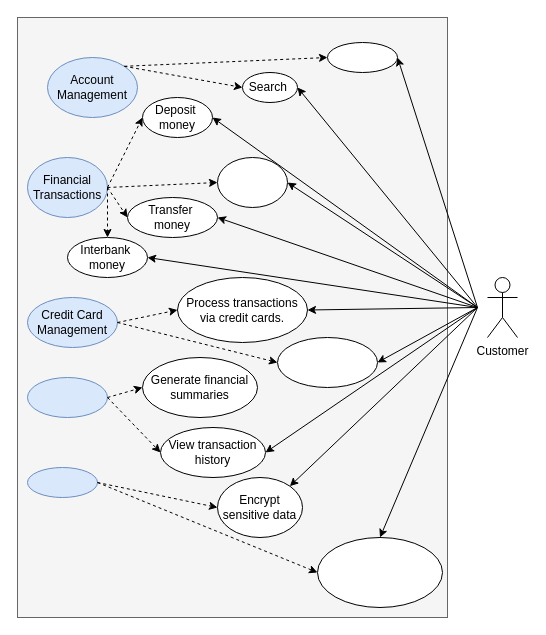
This 546x635 diagram has some shape labels left out. Each missing label, with the box of its shape:
Create: (326, 42, 398, 72)
Financial Reporting: (26, 376, 108, 418)
Implement Two-Factor Authentication (2FA): (316, 536, 442, 608)
Manage credit card limits: (276, 336, 378, 388)
Security: (26, 466, 98, 498)
Withdraw money: (216, 156, 288, 208)
